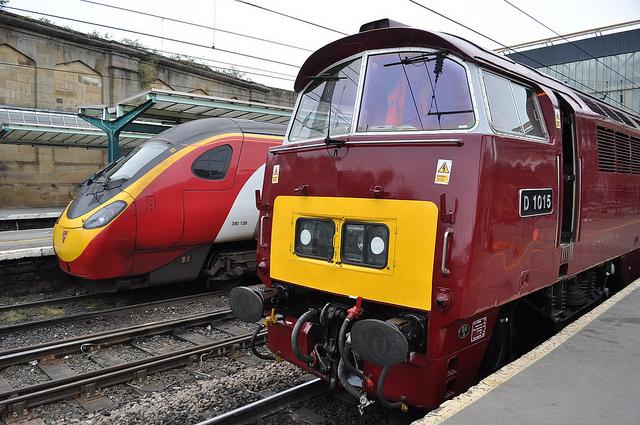Train: (233, 18, 639, 412), (52, 119, 279, 288)
